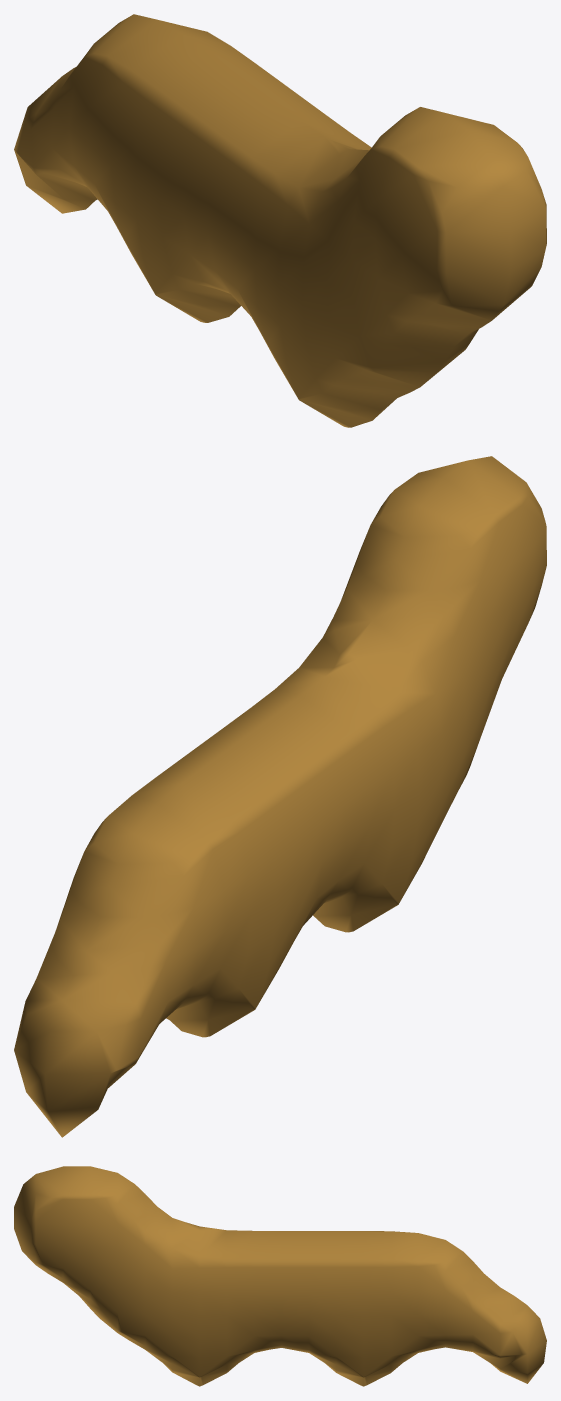
The model's file is Fox_016B_voxs.glb.
3 renders of one model, top to bottom at view 1: azimuth 30°, elevation 25°; view 2: azimuth 150°, elevation 25°; view 3: azimuth 270°, elevation 25°, orthographic. The views are drawn at different scales.
Bounding box in the file's own units: 0.325 × 0.8472 × 1.86.
